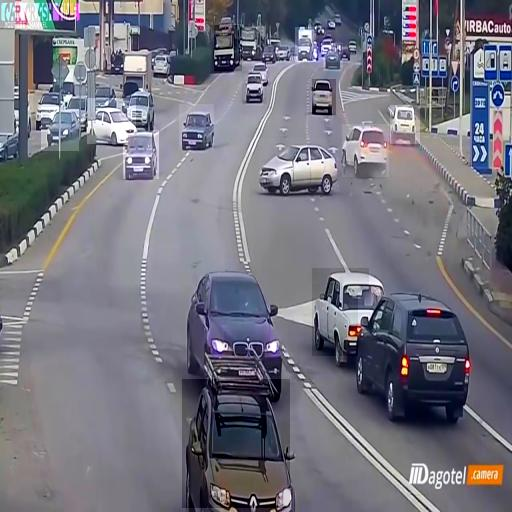小汽车: (358, 292, 471, 422), (182, 379, 290, 508), (184, 272, 284, 380), (312, 268, 369, 356), (259, 138, 338, 193), (342, 124, 389, 177), (87, 98, 136, 144), (123, 130, 159, 179), (41, 108, 79, 152), (179, 104, 214, 150), (214, 26, 242, 72), (33, 86, 61, 128), (390, 105, 420, 144), (312, 79, 336, 115), (242, 71, 267, 104), (295, 27, 316, 62), (323, 43, 343, 71), (152, 50, 171, 76)
